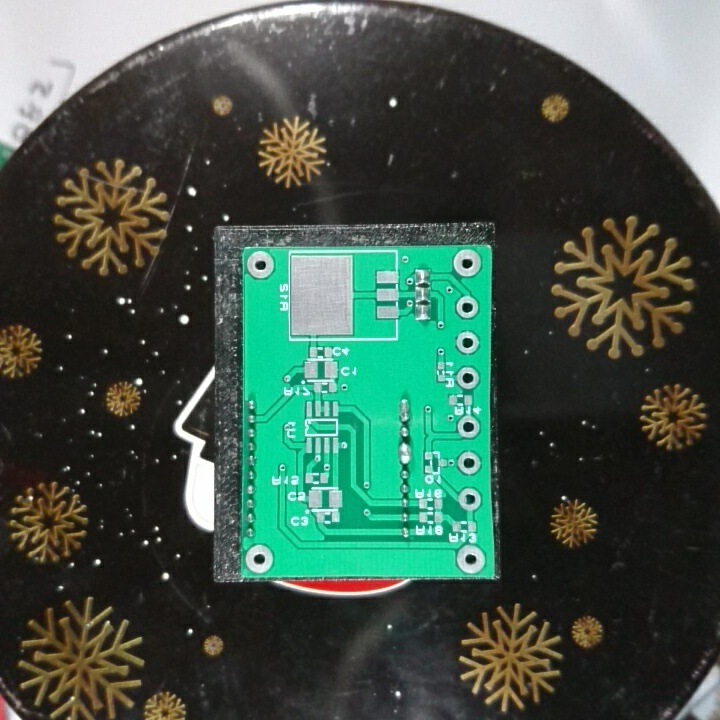F: (243, 542, 277, 575), (245, 249, 277, 280), (450, 248, 483, 278), (455, 541, 485, 573), (453, 330, 482, 357), (454, 294, 482, 320), (454, 364, 482, 390), (456, 450, 482, 478), (456, 412, 482, 438), (457, 486, 482, 513)
P: (396, 398, 415, 423), (397, 442, 414, 468)
